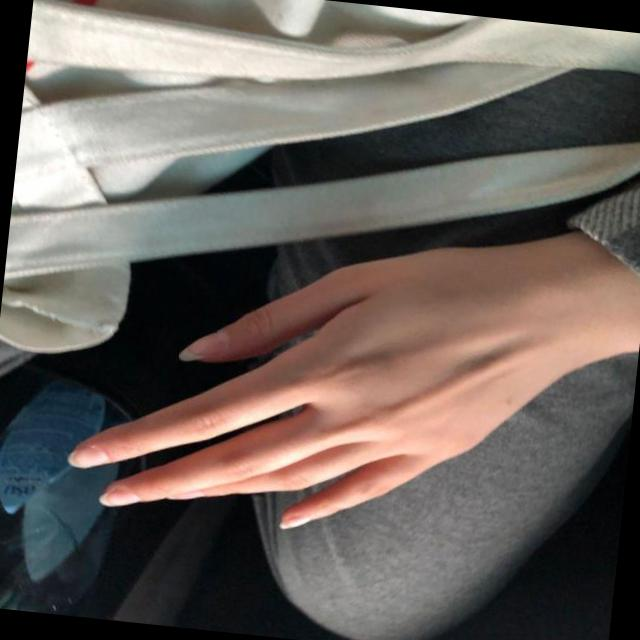Nail: (178, 329, 226, 360), (67, 445, 111, 466), (97, 488, 140, 505), (278, 514, 310, 528), (166, 490, 203, 498)
